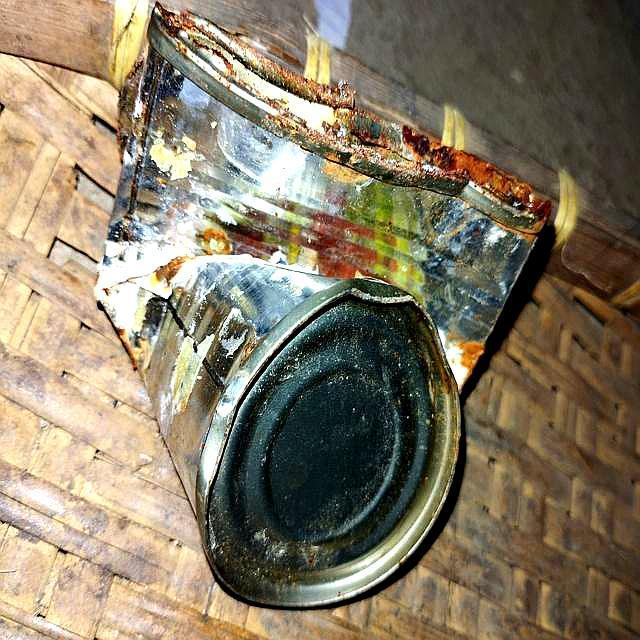Non-biodegradable: (93, 4, 557, 613)
